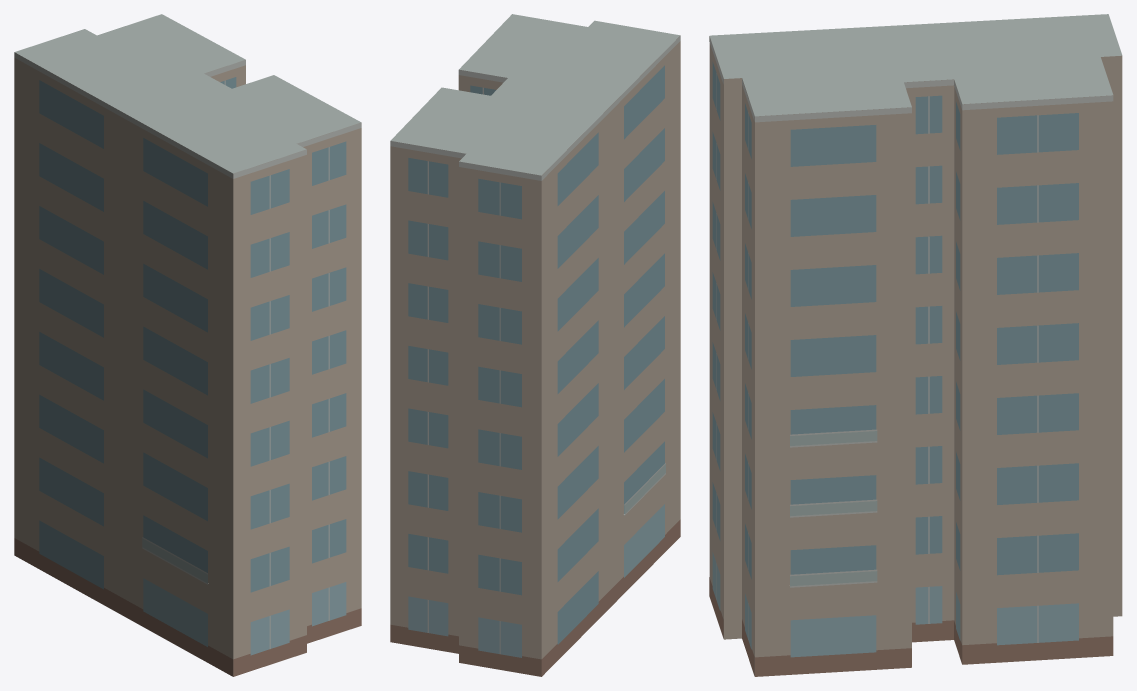
Rendered from survey-upis-32743046.glb.
The picture shows the model from 3 angles, left to right: view 1: azimuth 30°, elevation 25°; view 2: azimuth 150°, elevation 25°; view 3: azimuth 270°, elevation 25°; orthographic projection. The views are drawn at different scales.
Visible parts, largest first — view 1: survey-upis-32743046.tmp; view 2: survey-upis-32743046.tmp; view 3: survey-upis-32743046.tmp.
Boxes of the visible parts, left/top/right/bottom form: survey-upis-32743046.tmp: left=14, top=14, right=361, bottom=676; survey-upis-32743046.tmp: left=390, top=14, right=680, bottom=676; survey-upis-32743046.tmp: left=709, top=14, right=1122, bottom=676.
Bounding box in the file's own units: 8.86 × 22.6 × 15.1.
